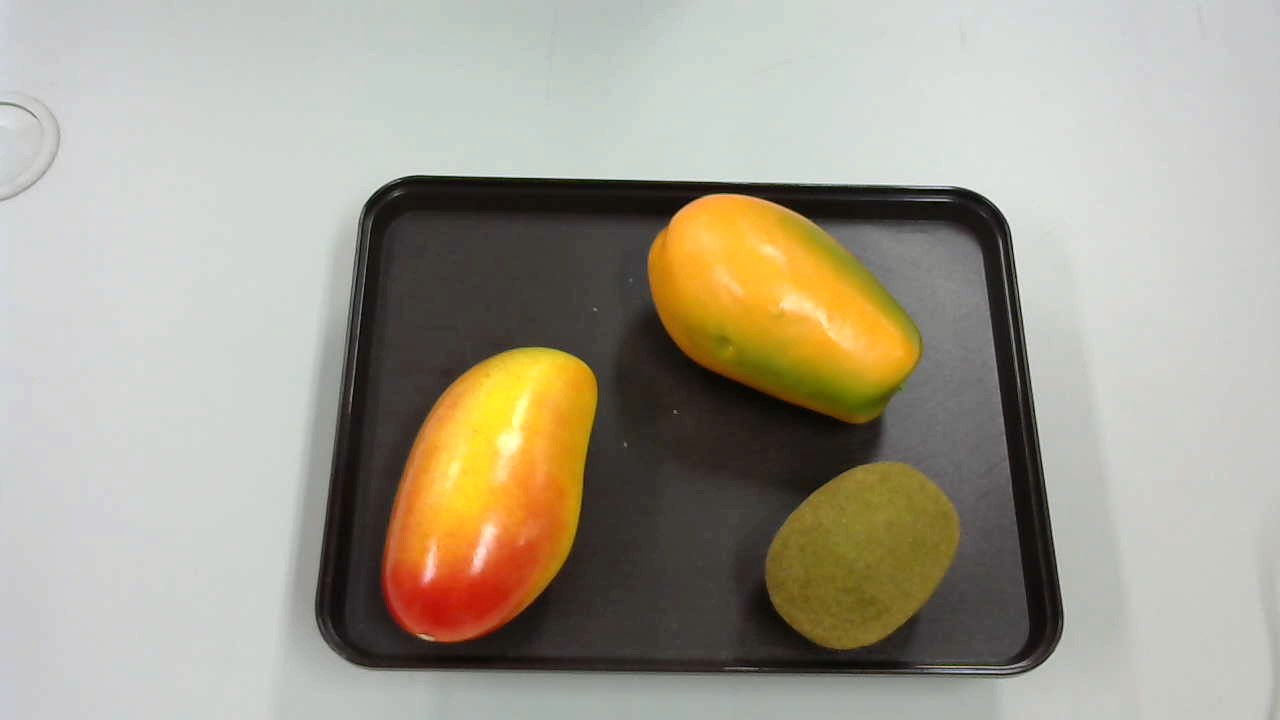kiwi fruit: (760, 455, 963, 657)
papya: (637, 191, 925, 427)
red mango: (376, 345, 599, 647)
